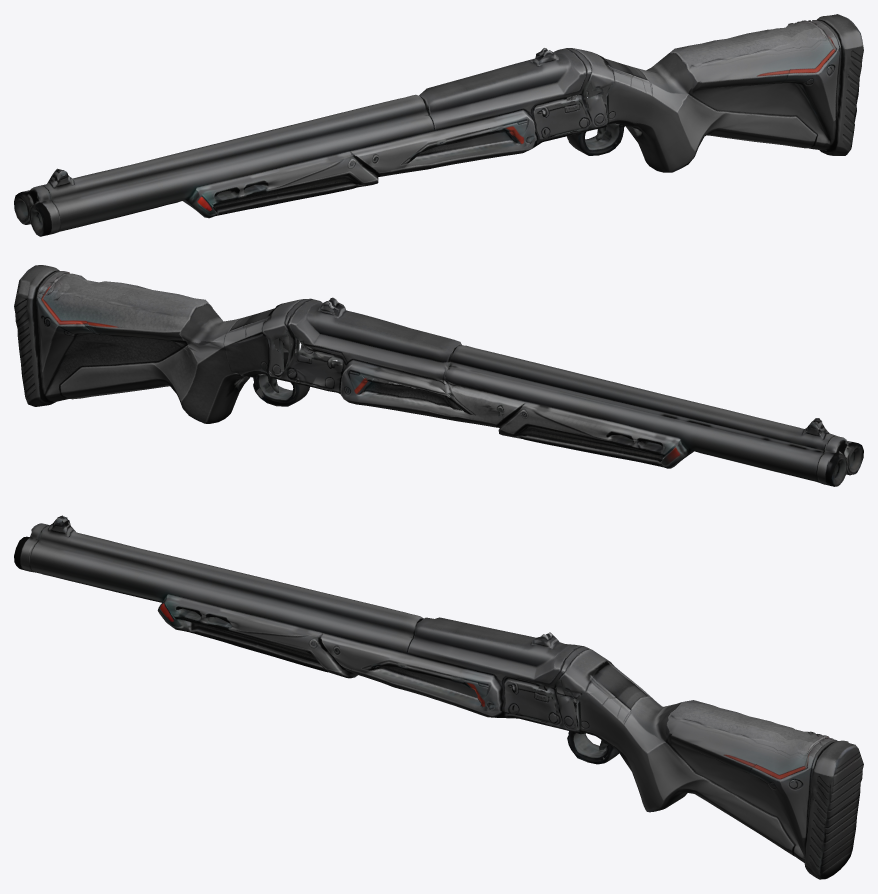
Rendered from tripo_convert_8b95dd11-873e-48ba-929b-04d8a0af20ba.fbx.
3 renders of one model, top to bottom at view 1: azimuth 30°, elevation 25°; view 2: azimuth 150°, elevation 25°; view 3: azimuth 330°, elevation 25°, orthographic.
Parts seen in each view (by area): view 1: tripo_node_8b95dd11; view 2: tripo_node_8b95dd11; view 3: tripo_node_8b95dd11.
Boxes of the visible parts, <box> form: tripo_node_8b95dd11: <box>14,14,863,236</box>; tripo_node_8b95dd11: <box>14,265,863,486</box>; tripo_node_8b95dd11: <box>14,515,863,879</box>.
Size of the model in its own units: 97.94 by 8.62 by 19.68.
1 material, 1 textured.
